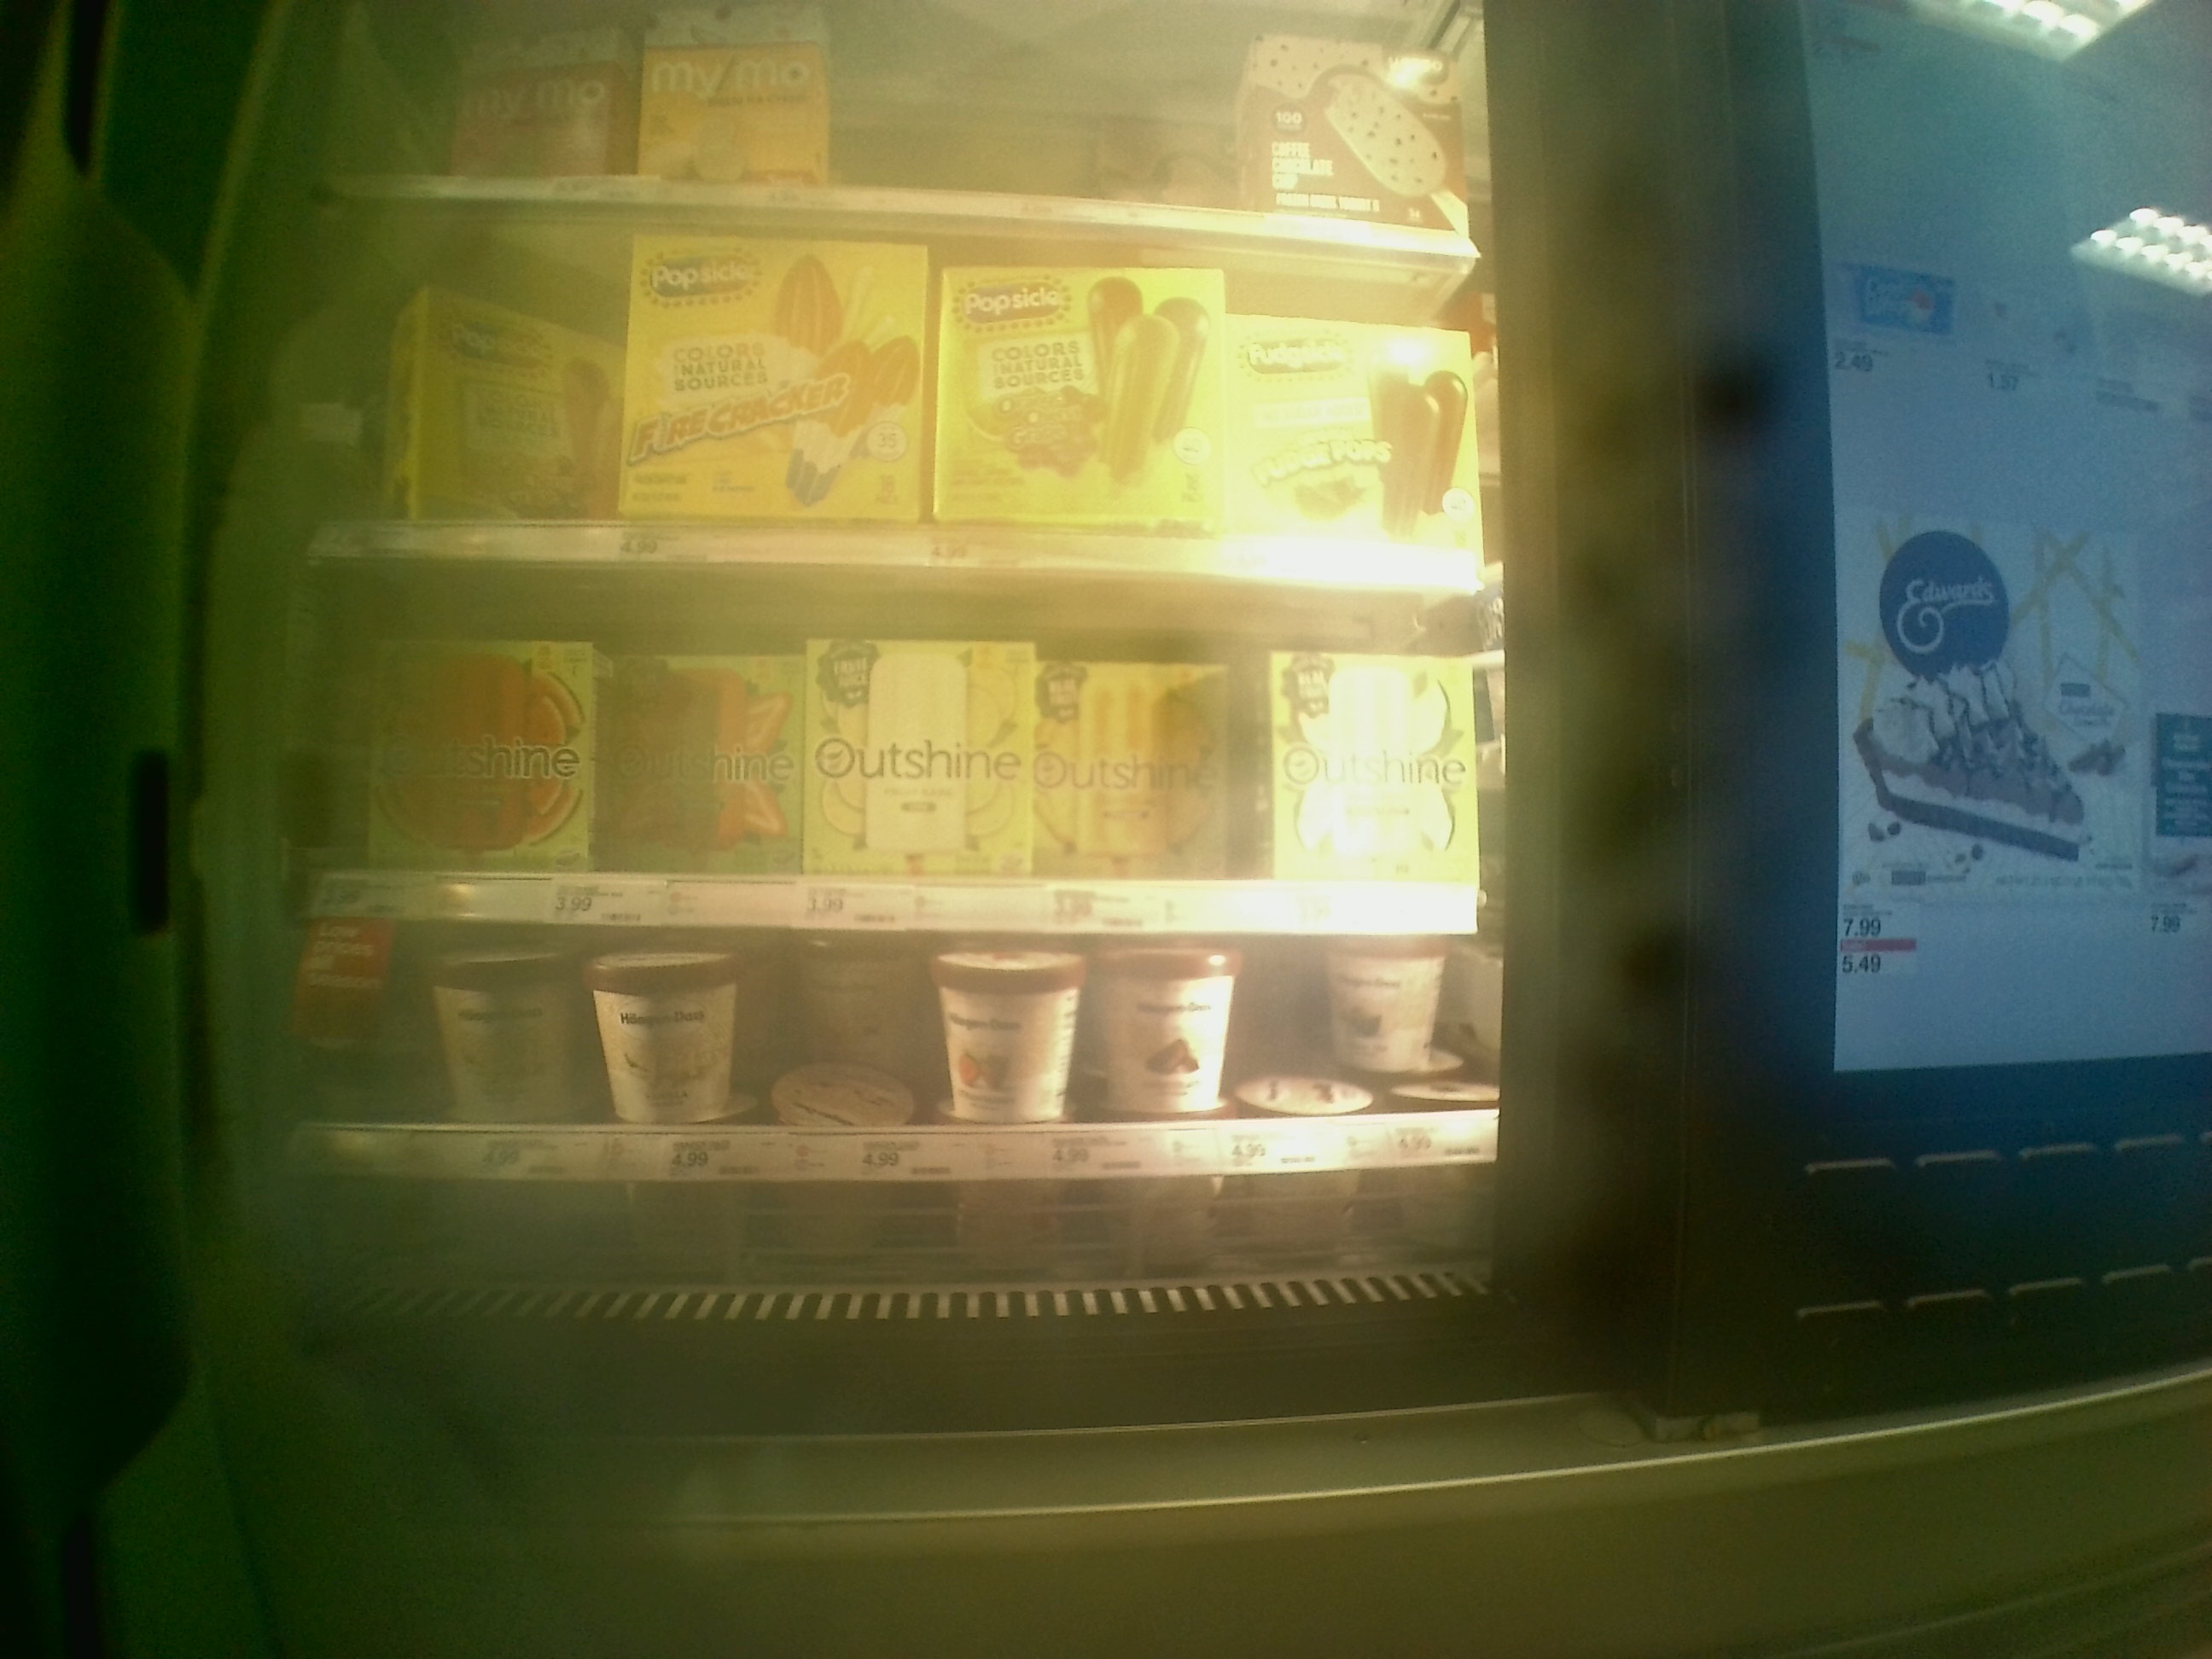shelf: (314, 561, 1508, 932), (298, 197, 1487, 566), (312, 924, 1503, 1281)
